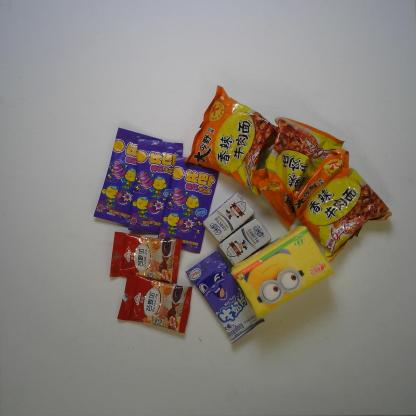Candy: (185, 248, 265, 344), (92, 127, 164, 226), (157, 155, 220, 254), (128, 139, 184, 234)
Instant Drink: (117, 272, 193, 334), (109, 231, 183, 285)
Instant Noodles: (287, 148, 393, 263), (251, 115, 346, 228), (182, 84, 277, 196)
Milk: (202, 192, 255, 243), (218, 217, 272, 266)
Tissue: (230, 225, 335, 320)
